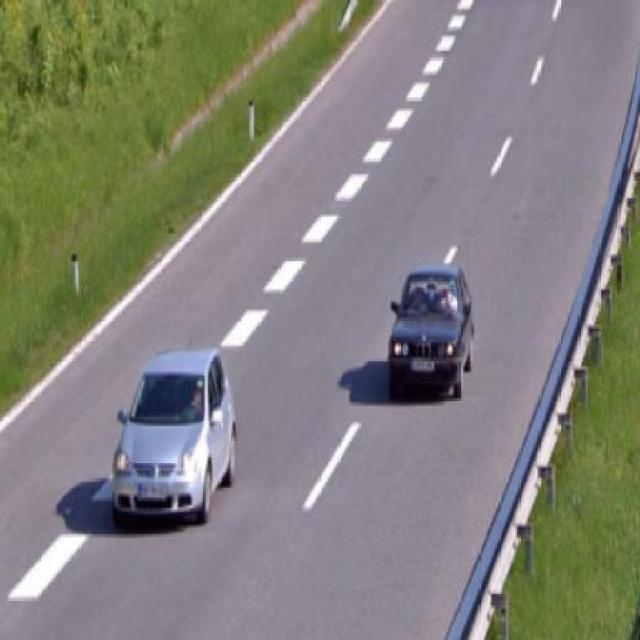car: (111, 349, 232, 534), (386, 265, 472, 405)
